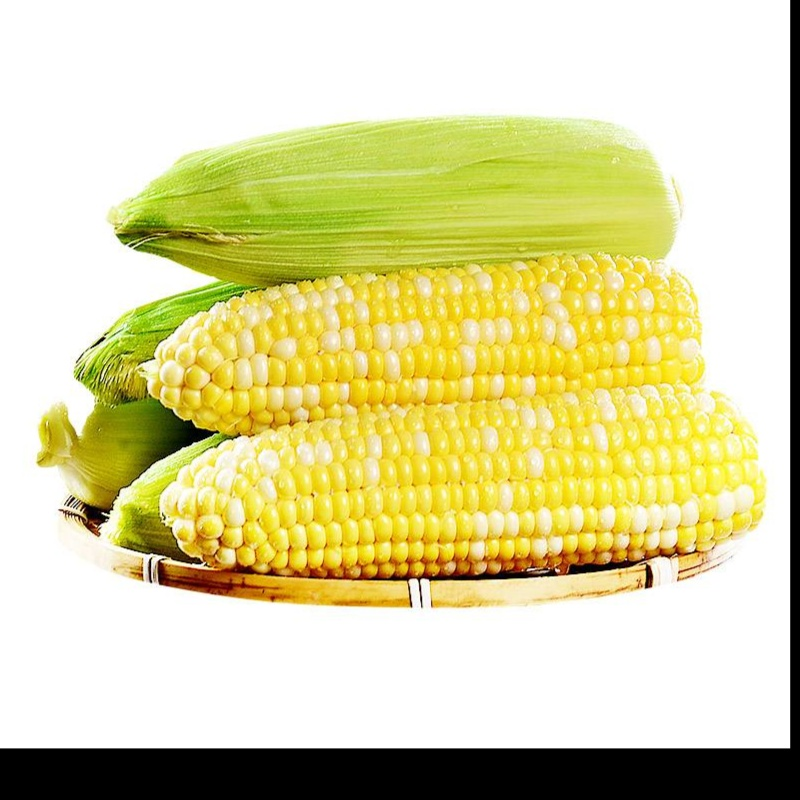corn: (145, 253, 704, 435), (183, 399, 761, 561)
corn_plant: (114, 117, 693, 262)
